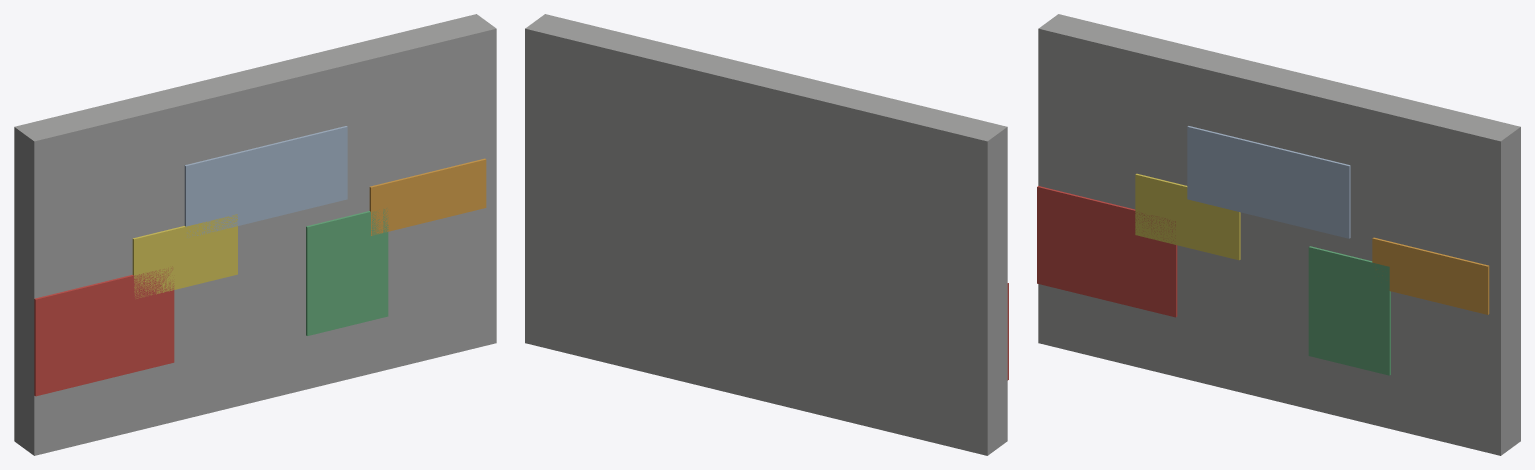
The model's file is Grafiti_Duvari.glb.
The picture shows the model from 3 angles, left to right: view 1: azimuth 30°, elevation 25°; view 2: azimuth 150°, elevation 25°; view 3: azimuth 330°, elevation 25°; orthographic projection.
Visible parts, largest first — view 1: Grafiti_Duvari; view 2: Grafiti_Duvari; view 3: Grafiti_Duvari.
Part boxes in pixels (box(x1,y1,x2,y2)): Grafiti_Duvari: box(14, 14, 496, 455); Grafiti_Duvari: box(525, 14, 1008, 455); Grafiti_Duvari: box(1037, 14, 1520, 455).
Bounding box in the file's own units: 4 × 2.6 × 0.32.
